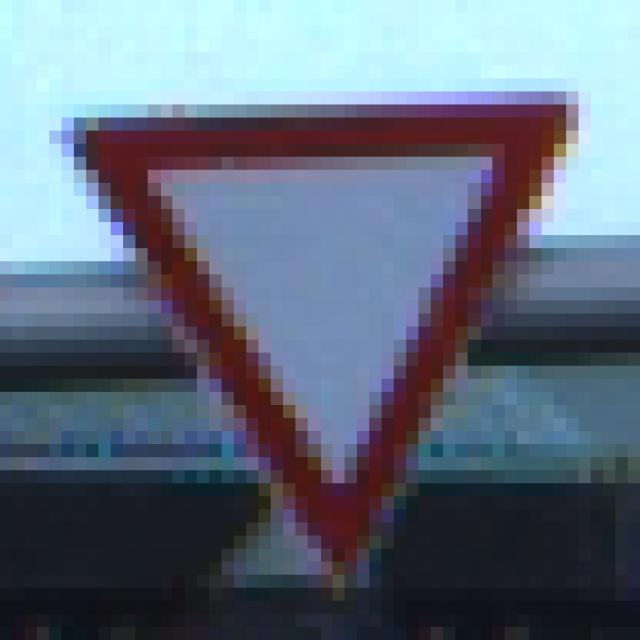Give Way: (63, 79, 580, 576)
